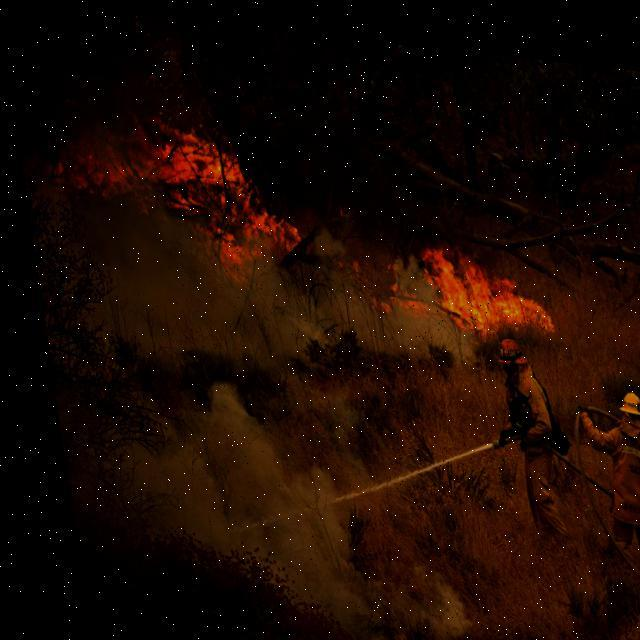Fire: (52, 100, 300, 274), (335, 222, 548, 332)
